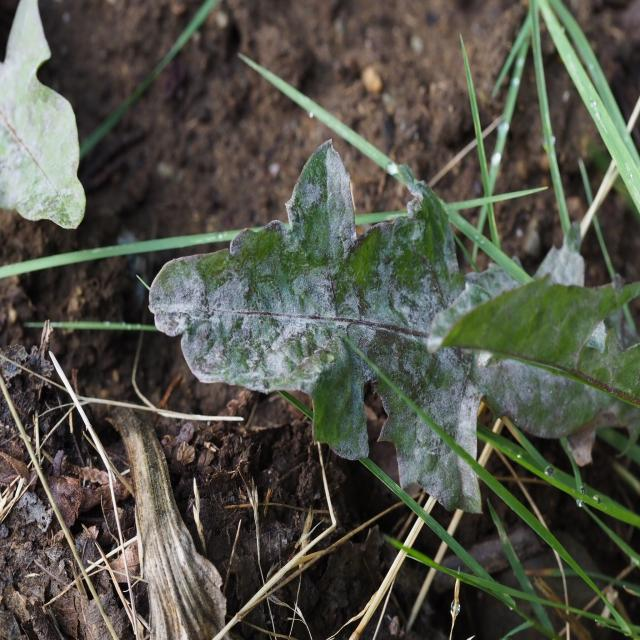powdery_mildew: (149, 140, 482, 511)
